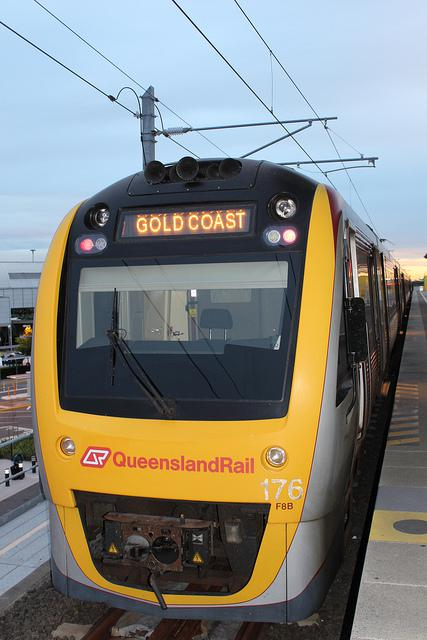Train: (29, 157, 415, 626)
